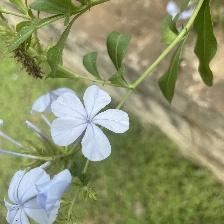chitrak: (50, 85, 126, 159), (1, 161, 73, 224)
